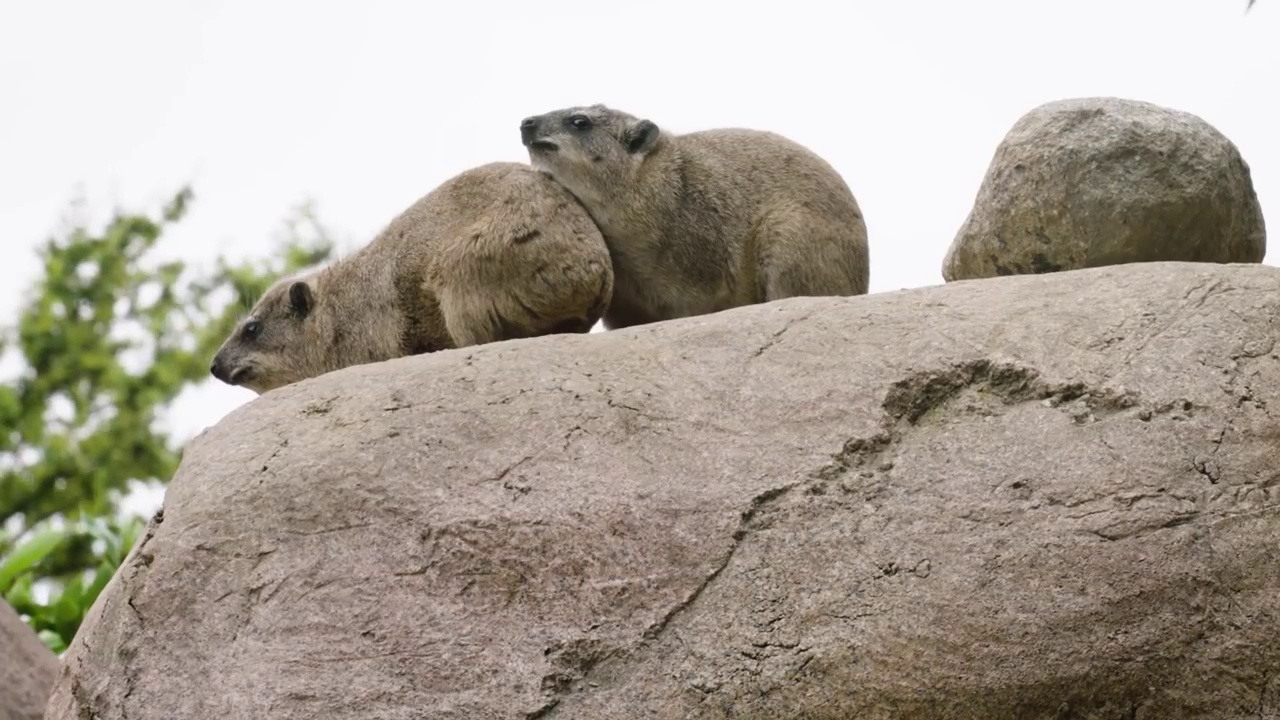Rock Hyrex: (203, 158, 618, 414), (519, 102, 874, 332)
